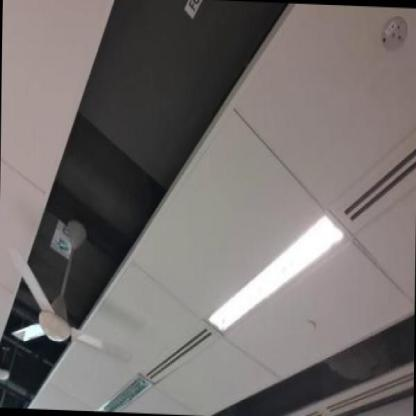light_on: (200, 191, 348, 349)
